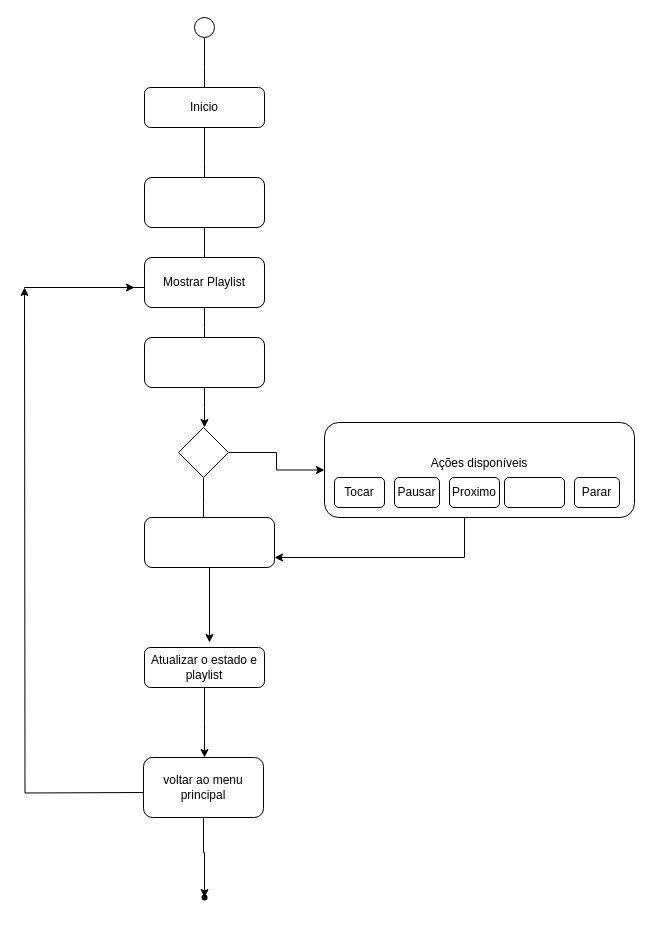
Image size: 652x925. Some labels were removed from this diagram. The centre of each missing label's shape, as x and y in pixels:
"Anterior" belongs at (x=534, y=492).
"Carregar Mp3" belongs at (x=204, y=202).
"Executar a acçao" belongs at (x=209, y=542).
"Utilizador Escolhe a acçao" belongs at (x=204, y=362).
